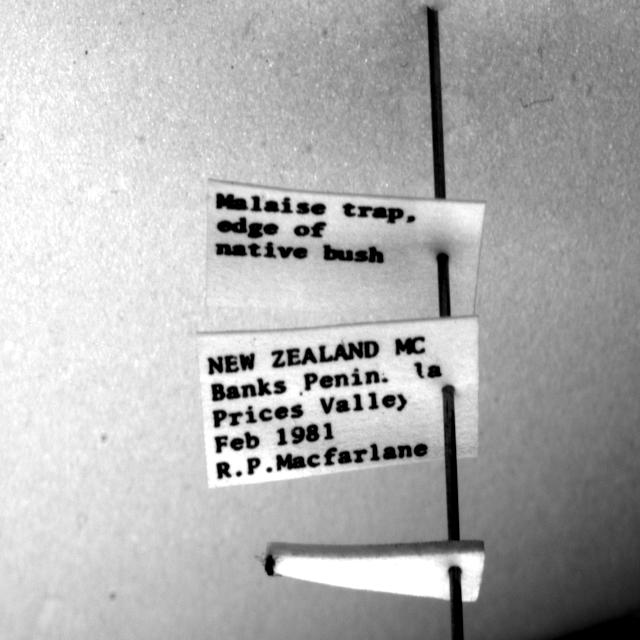typed_label: (198, 317, 479, 488), (206, 180, 485, 319)
